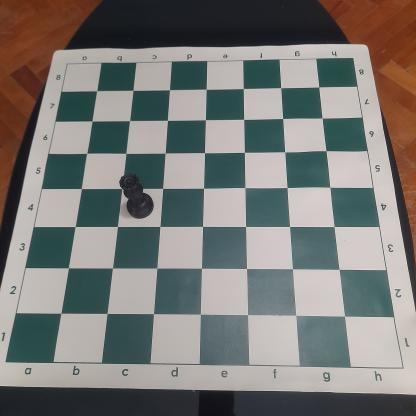black-queen: (118, 171, 156, 220)
